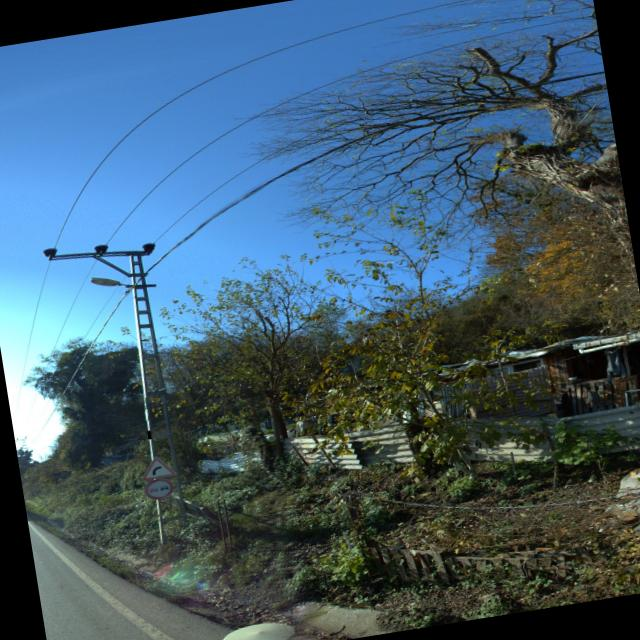Utility Pole Information Plate: (148, 431, 152, 439)
